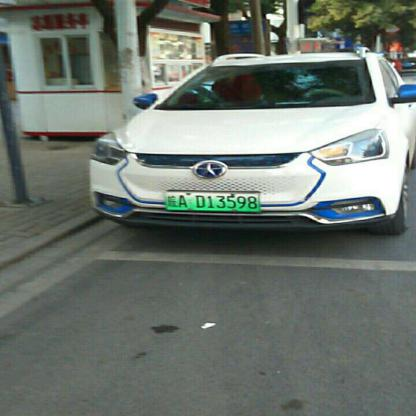lp: (164, 191, 258, 210)
